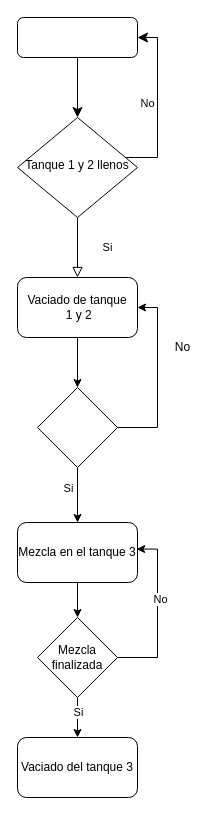
This 215x815 diagram has some shape labels left out. Here are the shapes that lost their labels. From the top down, the centre of each, then its label:
At point 77,37: "Encendido de Motobomba 1 y 2".
At point 77,427: "Tanque 3 lleno".
